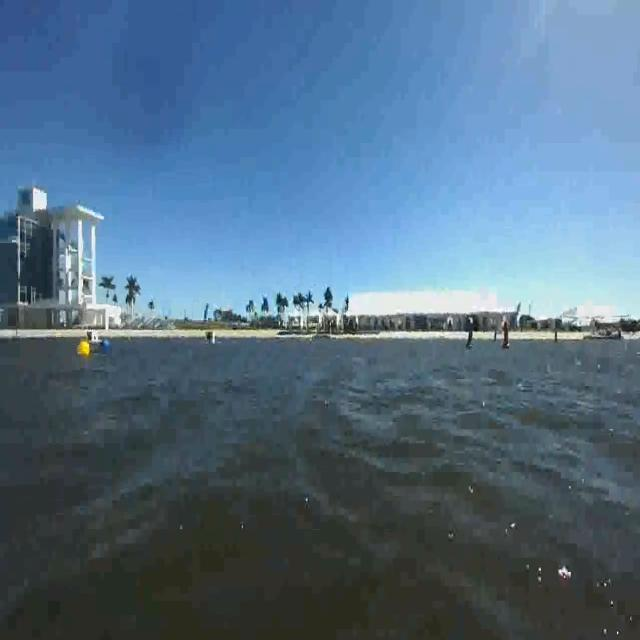blue-buoy: (103, 336, 110, 351)
green-column-buoy: (465, 326, 476, 351)
red-column-buoy: (500, 320, 512, 352)
yellow-buoy: (78, 340, 91, 360)
